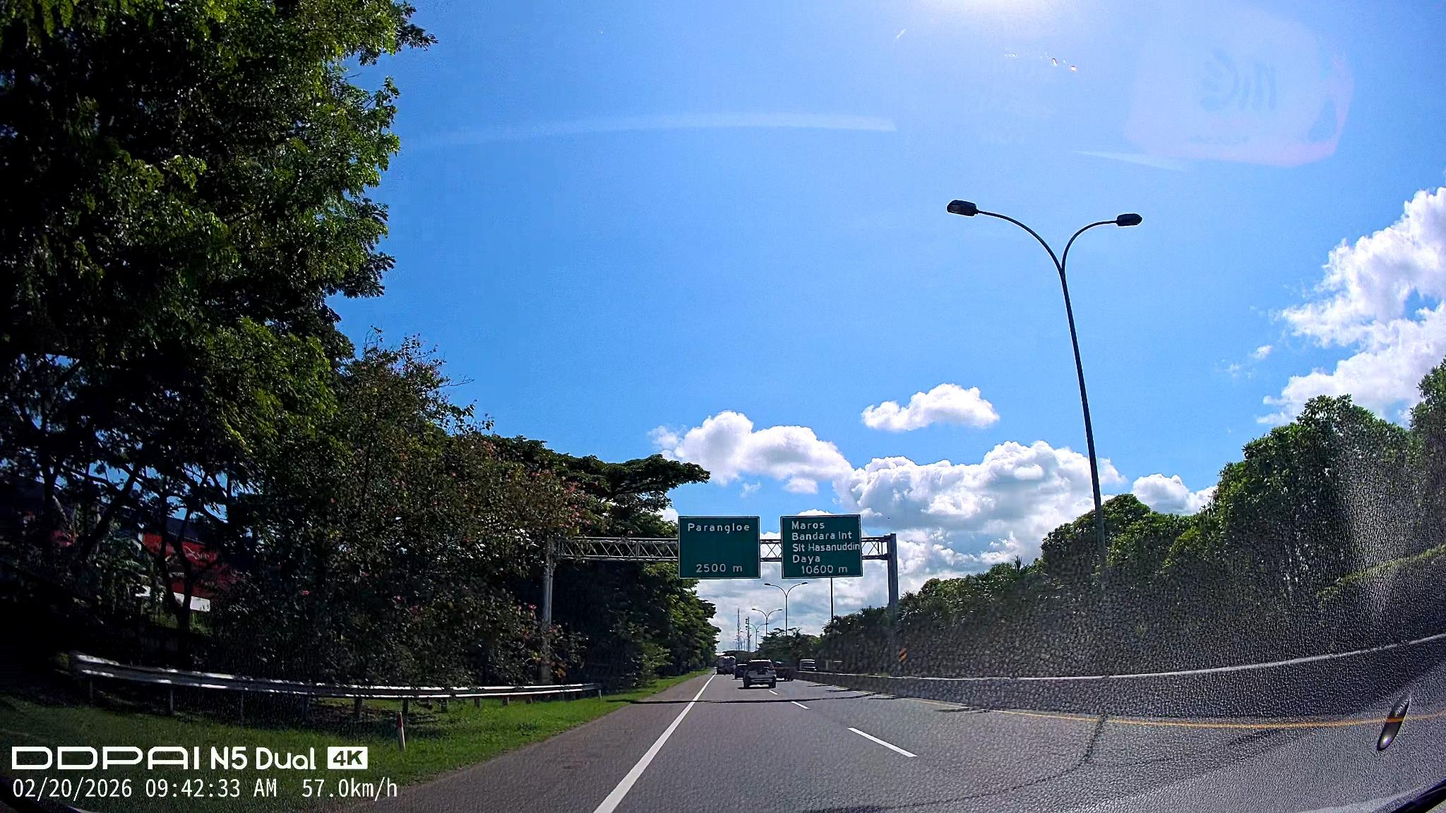rambu_teks: (677, 515, 762, 580), (780, 514, 864, 579)
